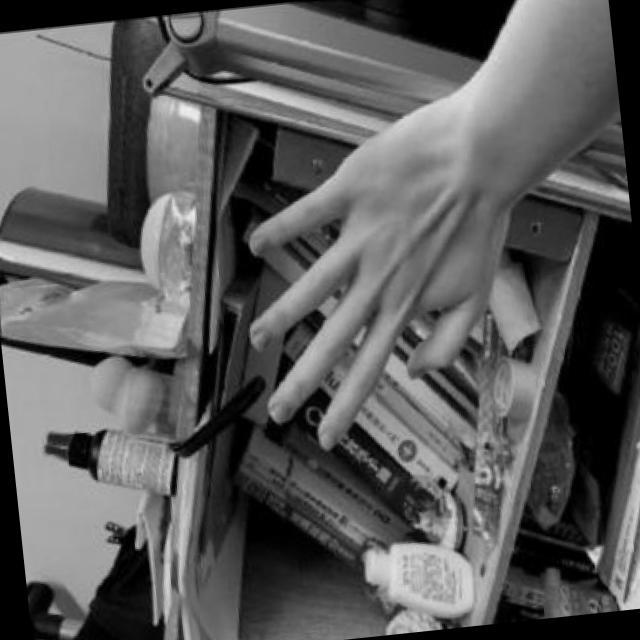without_gloves: (202, 58, 560, 491)
